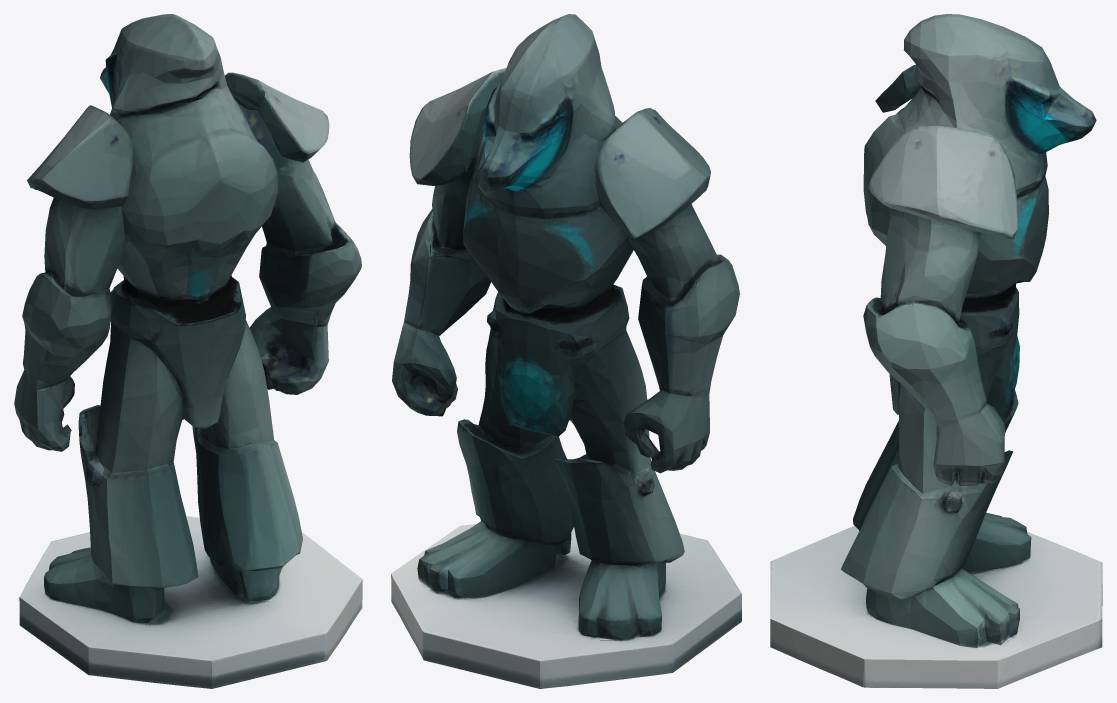
Rendered from ElementalGolemEnemy.glb.
3 renders of one model, left to right at view 1: azimuth 30°, elevation 25°; view 2: azimuth 150°, elevation 25°; view 3: azimuth 270°, elevation 25°, orthographic. The views are drawn at different scales.
Bounding box in the file's own units: 34.24 × 63.88 × 31.87.
1 material, 1 textured.
